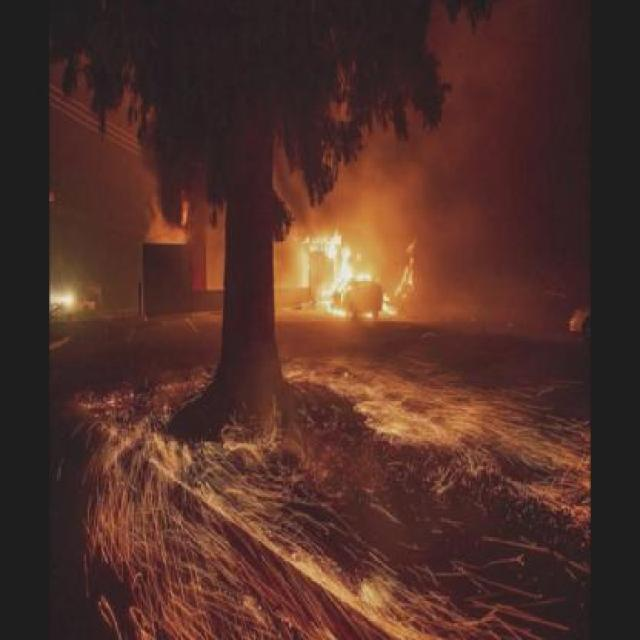Fire: (319, 230, 352, 310), (393, 242, 419, 298), (356, 272, 374, 282), (382, 292, 390, 312)
